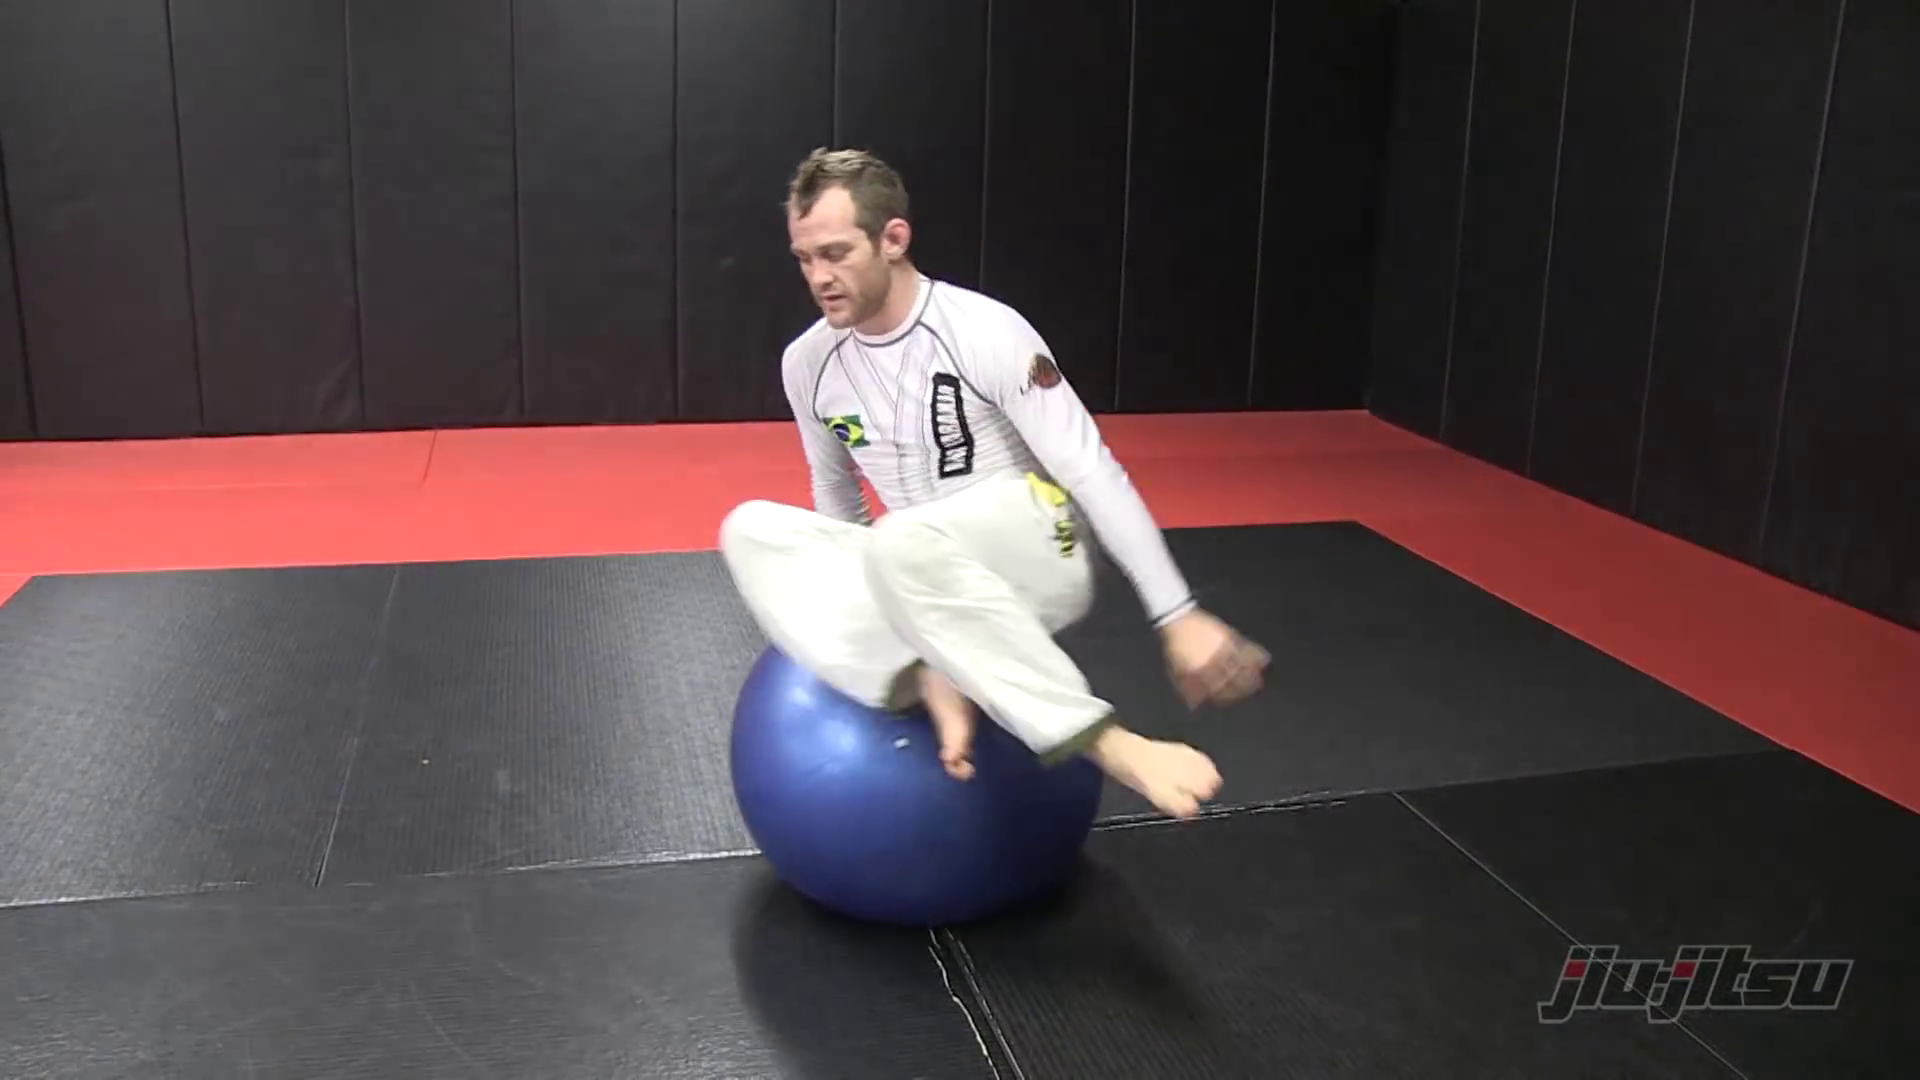yogaball: (700, 615, 1138, 965)
